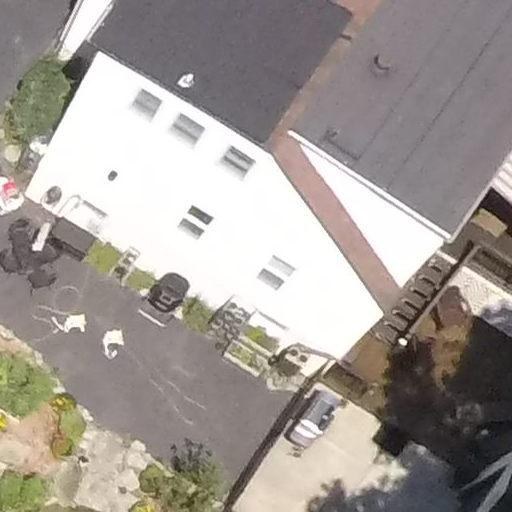container: (287, 342, 299, 363), (297, 348, 311, 366), (226, 298, 237, 314), (213, 317, 224, 332), (227, 326, 237, 340), (232, 314, 243, 326), (236, 304, 247, 316), (220, 322, 229, 336), (224, 310, 233, 323)
